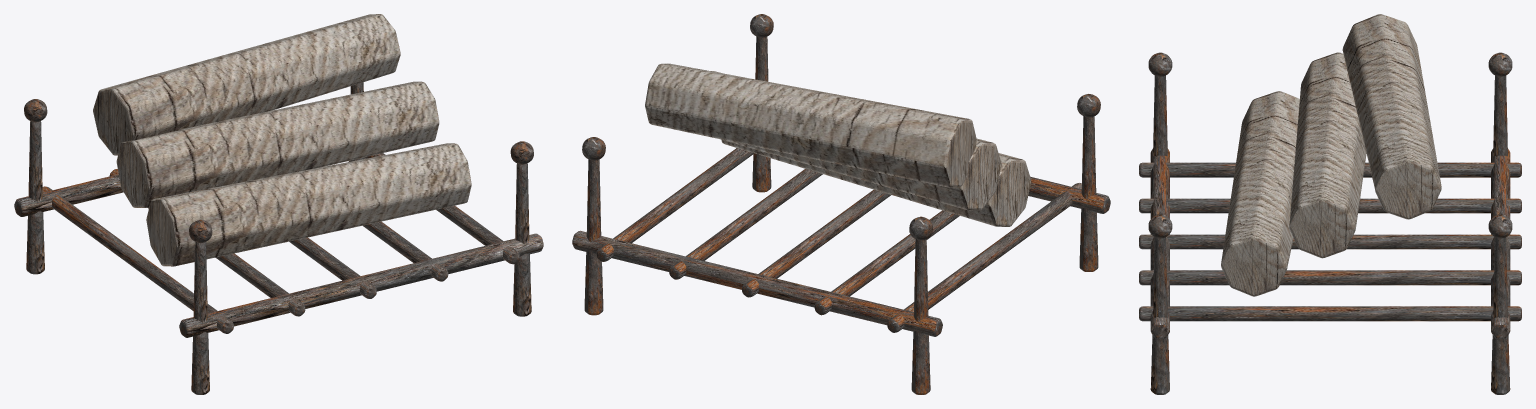
The model's file is fireplace-grate-v01.glb.
3 renders of one model, left to right at view 1: azimuth 30°, elevation 25°; view 2: azimuth 150°, elevation 25°; view 3: azimuth 270°, elevation 25°, orthographic. The views are drawn at different scales.
Parts seen in each view (by area): view 1: fireplace-grate; view 2: fireplace-grate; view 3: fireplace-grate.
Boxes of the visible parts, x1,y1,x2,y2 form: fireplace-grate: (14, 14, 543, 394); fireplace-grate: (572, 14, 1110, 394); fireplace-grate: (1139, 14, 1521, 394).
Bounding box in the file's own units: 1 × 0.588 × 0.9.
Materials: 2 (2 with a texture image).
